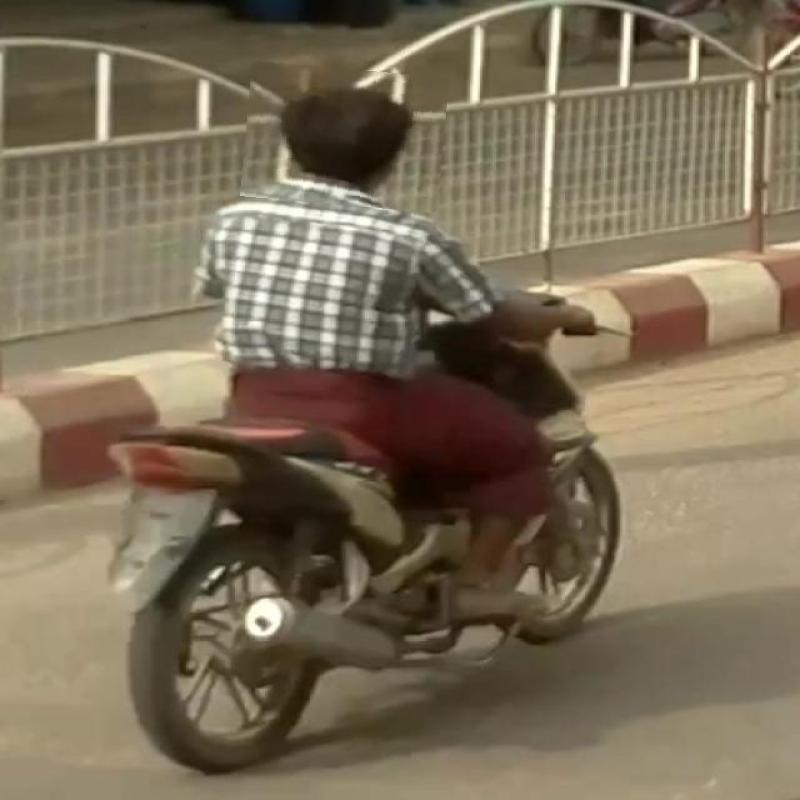nohelmet: (244, 65, 446, 209)
